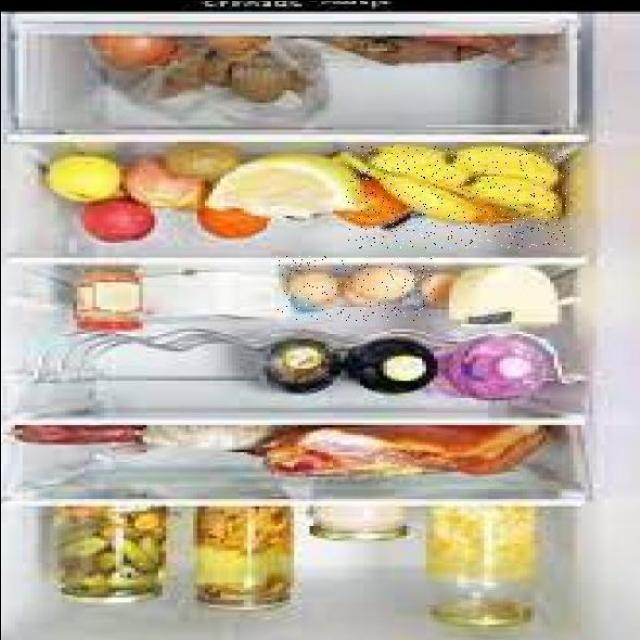Huevos: (276, 255, 436, 320)
